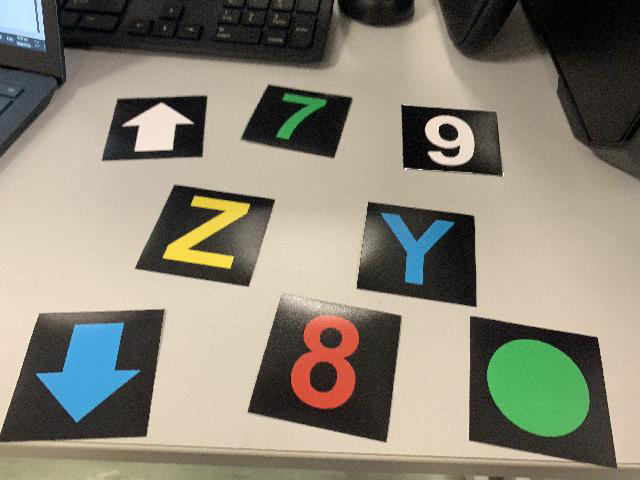alphabet_y: (356, 200, 481, 309)
alphabet_z: (133, 180, 278, 290)
down_arrow: (4, 306, 167, 443), (100, 93, 207, 163)
eight: (246, 289, 403, 443)
go: (468, 314, 620, 470)
nine: (402, 102, 507, 178)
seven: (239, 78, 355, 165)
